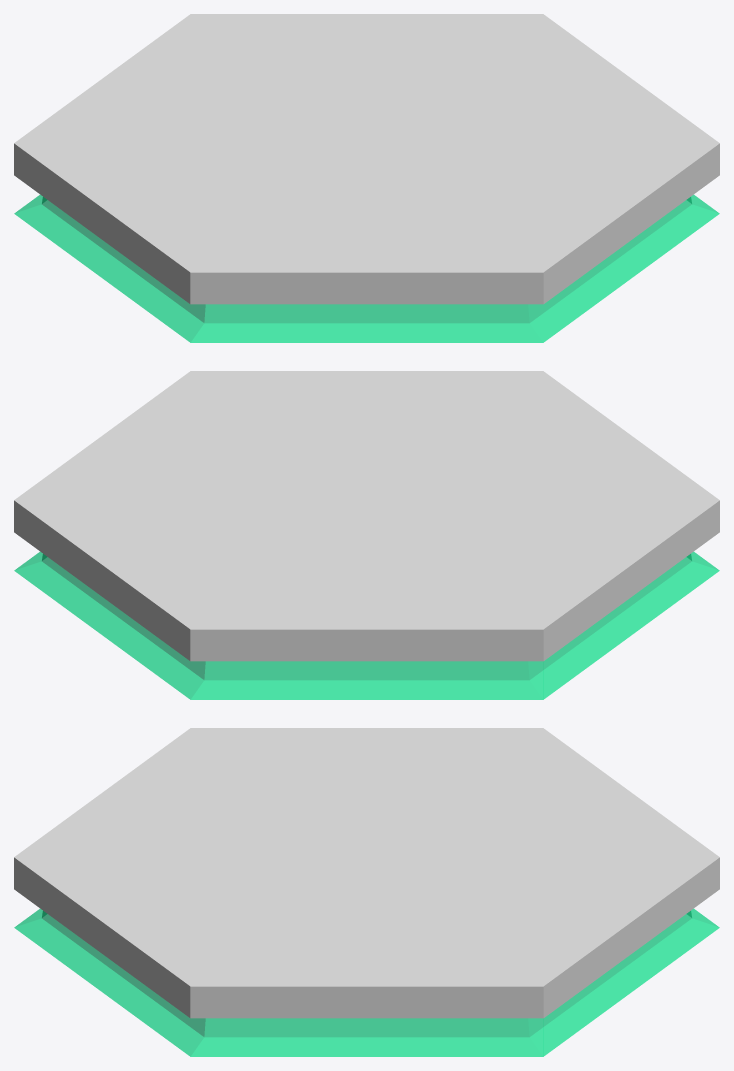
Rendered from HexTile 1.fbx.
3 views of the same model, one above another, from view 1: azimuth 30°, elevation 25°; view 2: azimuth 150°, elevation 25°; view 3: azimuth 270°, elevation 25° (orthographic).
Visible parts, largest first — view 1: HexTile; view 2: HexTile; view 3: HexTile.
Part boxes in pixels (x1,y1,x2,y2): HexTile: (14, 14, 719, 342); HexTile: (14, 371, 719, 699); HexTile: (14, 728, 719, 1056).
Bounding box in the file's own units: 173 × 22 × 200.
